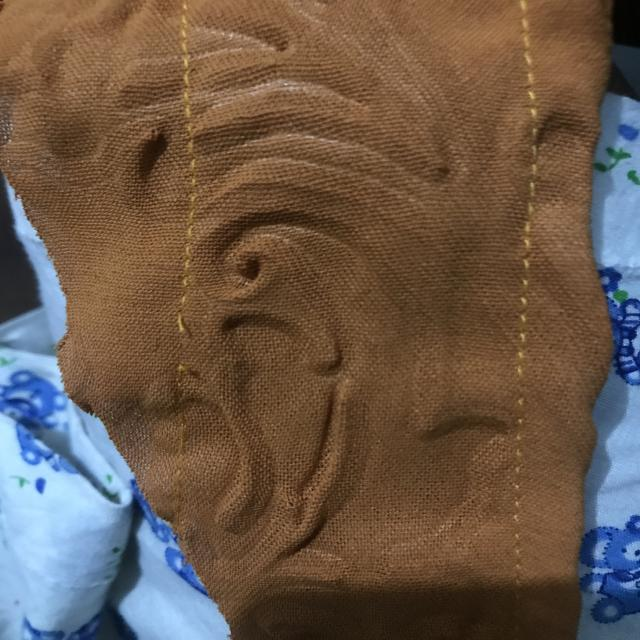broken: (158, 297, 231, 399)
good: (506, 276, 541, 357)
